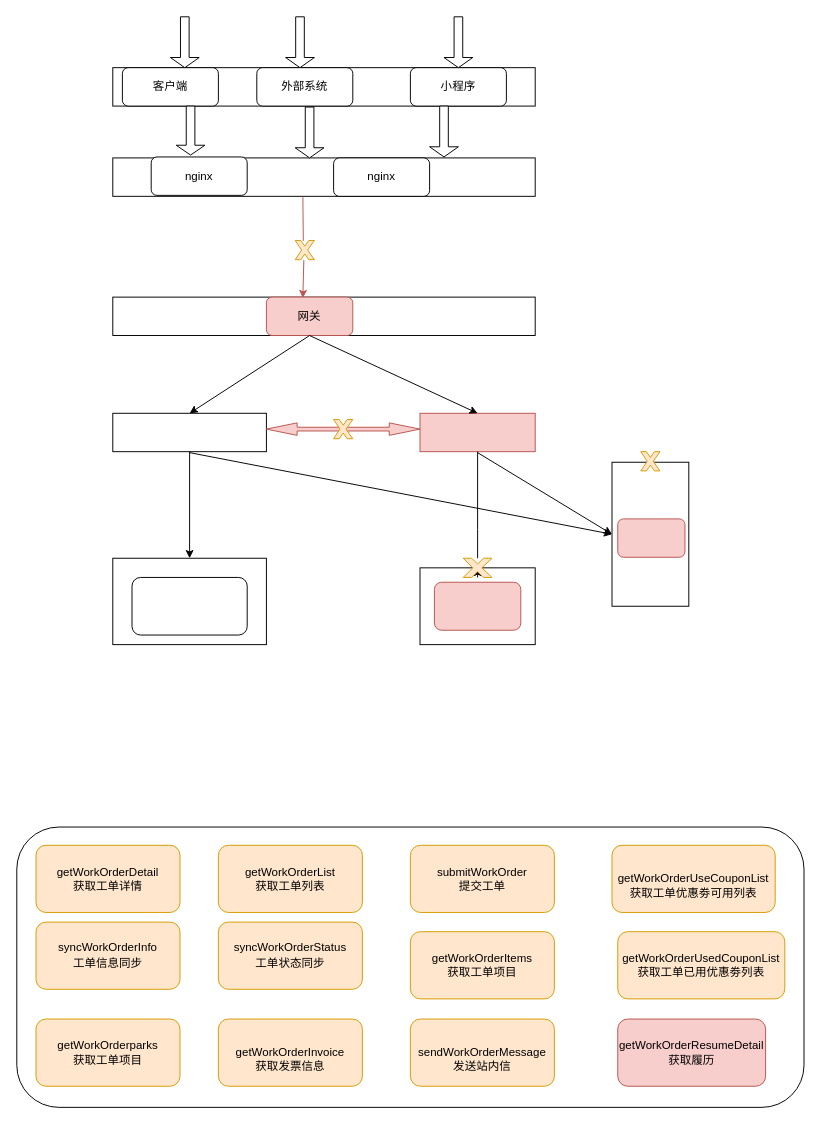
Image size: 821x1124. Some labels were removed from this diagram. The centre of each missing label's shape, as x and y in pixels:
"orderDB" belongs at point (477, 605).
"单体" belongs at point (477, 432).
"微服务DB集群" belongs at point (189, 605).
"微服务集群" belongs at point (189, 432).
"文件服务器" belongs at point (651, 537).
